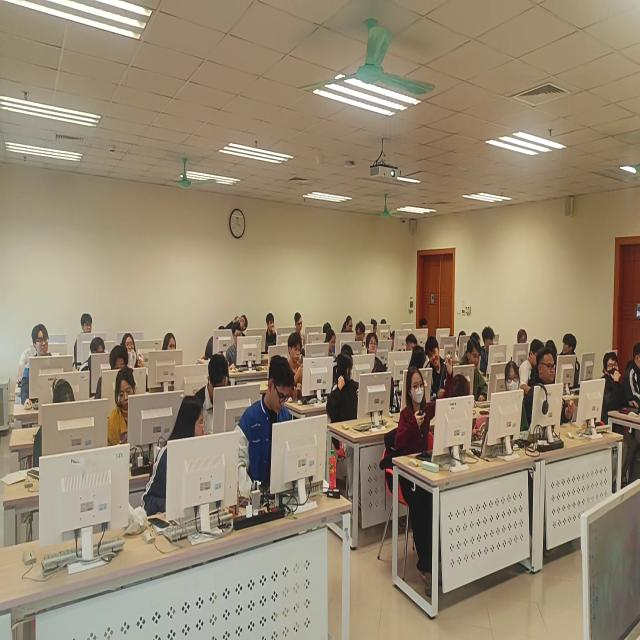raise_head: (399, 370, 443, 498), (23, 326, 67, 412), (602, 353, 639, 447), (366, 333, 387, 392), (124, 333, 145, 375), (163, 331, 184, 366), (266, 313, 279, 354), (517, 330, 532, 363), (81, 314, 95, 341), (293, 311, 308, 336)
using_computer: (237, 363, 308, 502), (34, 378, 91, 480), (538, 352, 598, 444), (108, 369, 156, 458), (194, 356, 239, 442), (458, 342, 498, 407), (96, 347, 128, 408), (226, 324, 260, 376), (80, 338, 107, 387), (481, 329, 507, 378), (325, 329, 346, 368), (402, 333, 419, 360), (344, 316, 355, 336)
using_phone: (285, 332, 311, 408)
